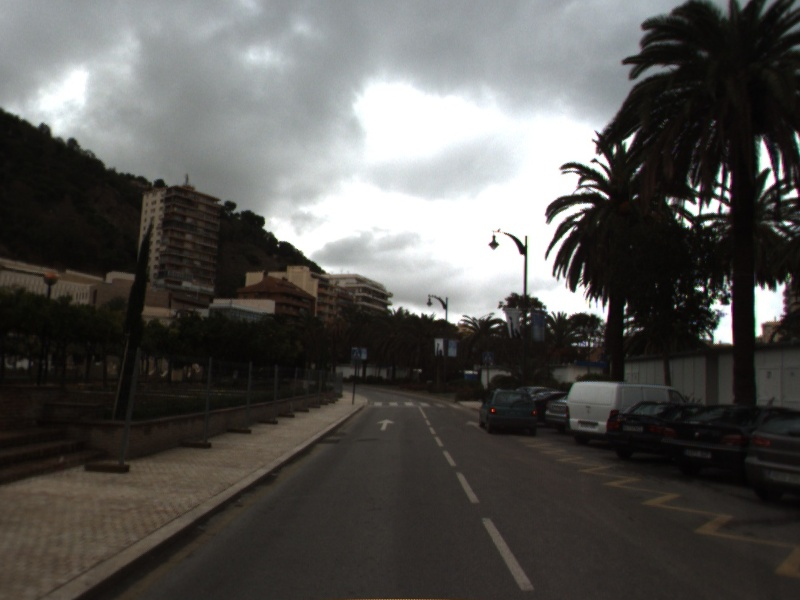STRAIGHT: (464, 419, 489, 435), (374, 417, 398, 433)
